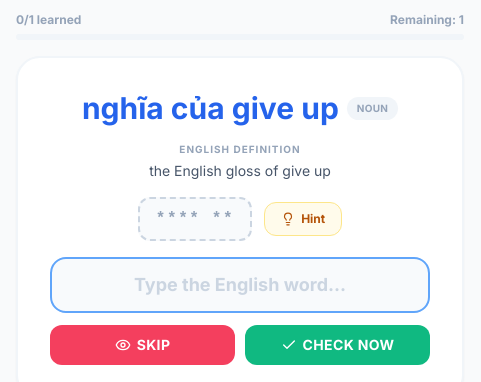
GuessWordSession — 3-level hint progression › a multi-word entry reveals the next hidden word's first letter at level 2
Expected: the field with placeholder "Type the English word..." is shown, left=50, top=257, right=430, bottom=313
Click the button "Hint".
click(303, 219)  # box left=264, top=202, right=342, bottom=236
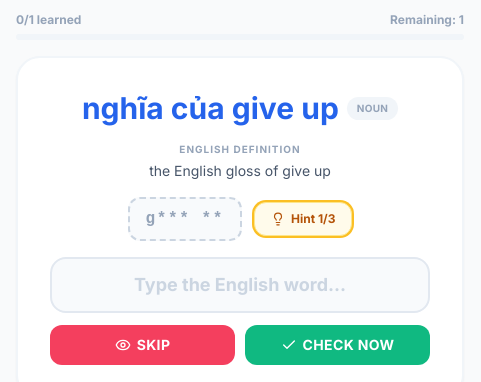
Expected: the text "g*** **" is shown, left=128, top=197, right=242, bottom=241
Click the button "Hint 1/3".
click(303, 219)  # box left=254, top=202, right=352, bottom=236
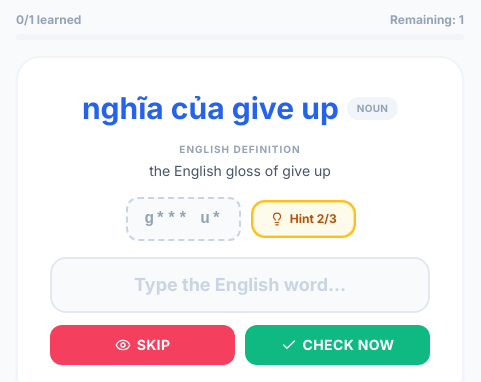
Expected: the text "g*** u*" is shown, left=126, top=197, right=241, bottom=241
